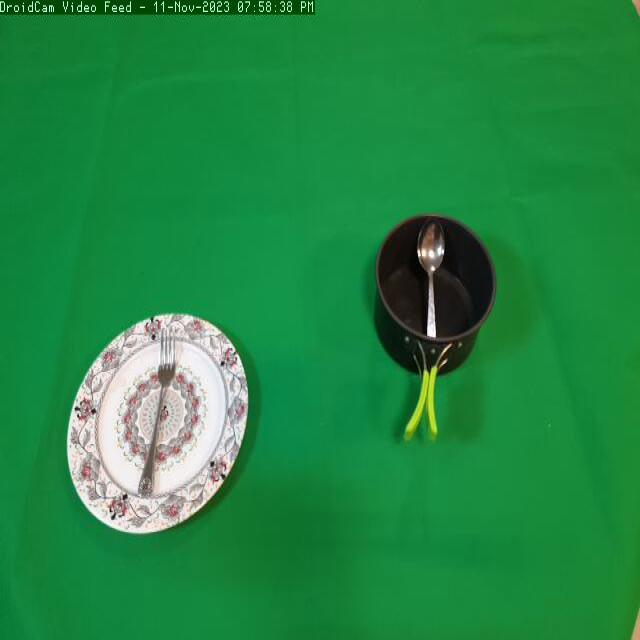fork: (130, 316, 190, 500)
plate: (62, 310, 254, 551)
pot: (369, 203, 506, 458)
spoon: (409, 215, 448, 339)
